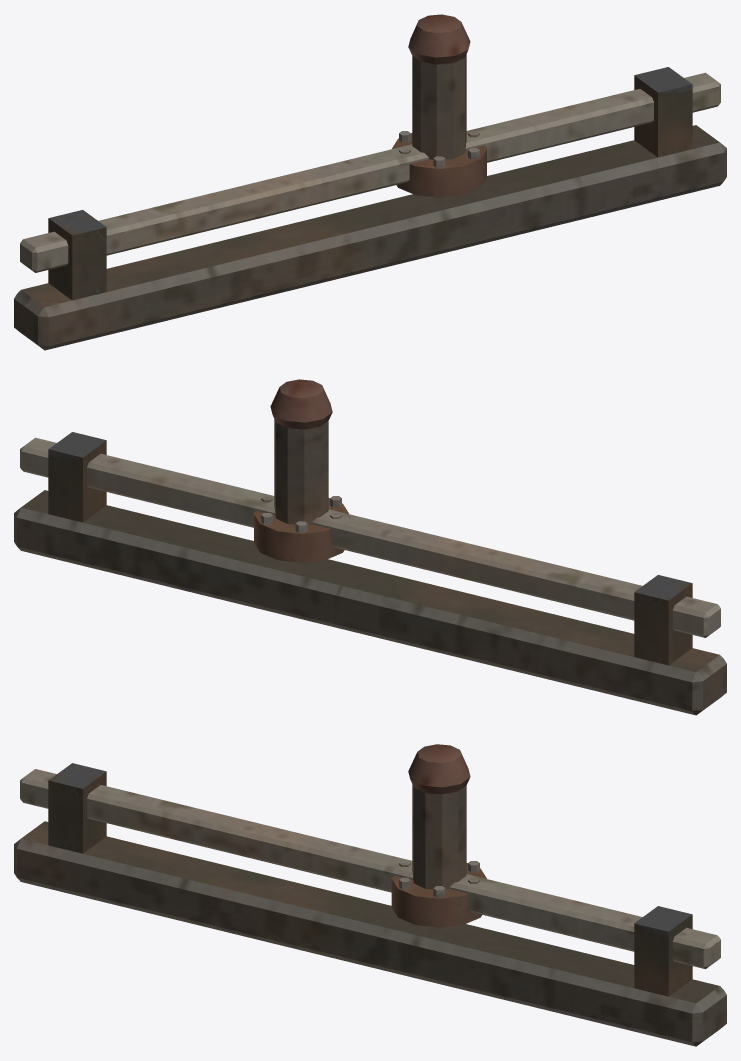
File: cargo-bay-wall-n.glb
3 renders of one model, top to bottom at view 1: azimuth 30°, elevation 25°; view 2: azimuth 150°, elevation 25°; view 3: azimuth 330°, elevation 25°, orthographic.
Visible parts, largest first — view 1: body; view 2: body; view 3: body.
Boxes of the visible parts, x1,y1,x2,y2 form: body: (14, 14, 726, 350); body: (14, 379, 726, 715); body: (14, 744, 726, 1046).
Size of the model in its own units: 2 by 0.63 by 0.24.
1 material, 1 textured.
